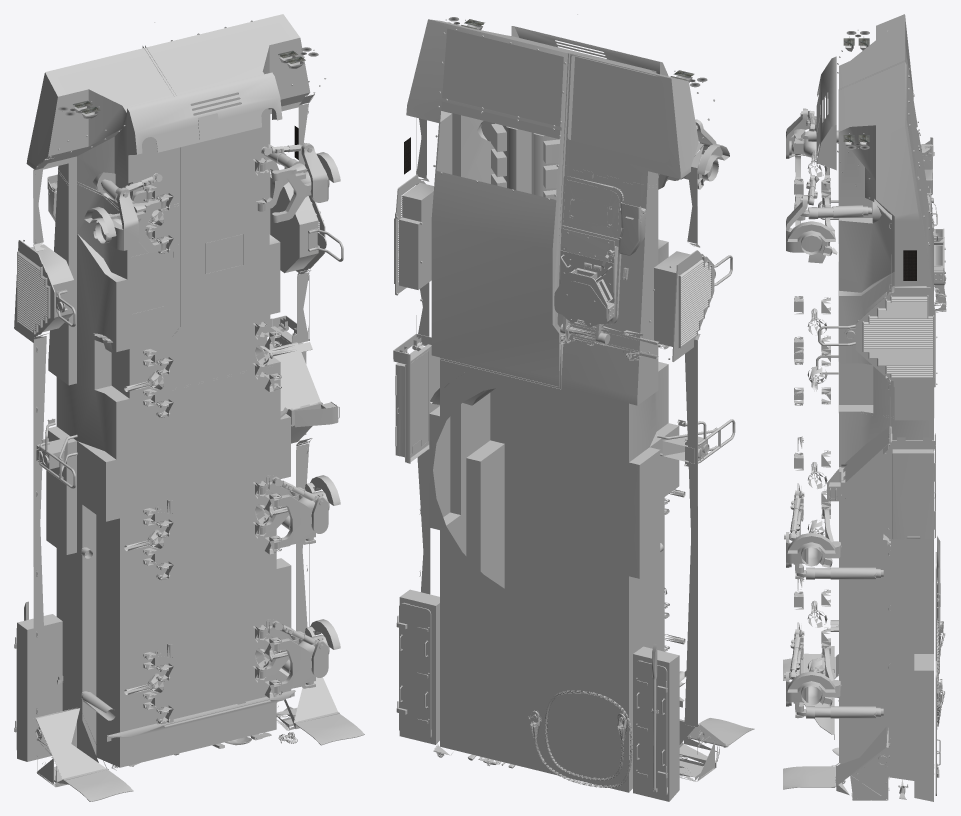
The picture shows the model from 3 angles, left to right: view 1: azimuth 30°, elevation 25°; view 2: azimuth 150°, elevation 25°; view 3: azimuth 270°, elevation 25°; orthographic projection. The views are drawn at different scales.
Parts seen in each view (by area): view 1: model_4, model_3; view 2: model_4, model_3; view 3: model_4, model_3, model_14, model_12.
Part boxes in pixels (x1,y1,x2,y2): model_4: (14,14,364,801); model_3: (14,20,343,787); model_4: (396,19,754,801); model_3: (393,14,735,787); model_4: (783,14,946,801); model_3: (794,29,946,800); model_14: (843,31,869,149); model_12: (903,250,916,280).
Size of the model in its own units: 241 by 618 by 129.
